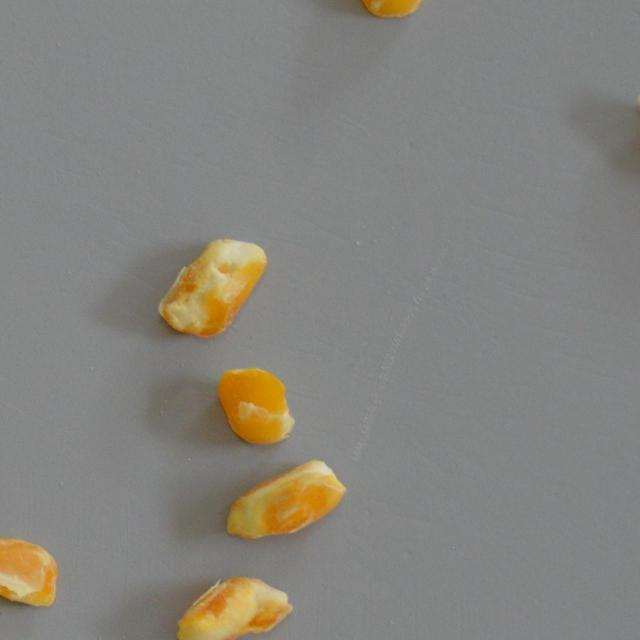pelicula: (152, 236, 268, 341), (222, 458, 346, 542), (172, 574, 295, 640), (214, 365, 295, 446), (0, 532, 59, 610), (354, 0, 426, 18)
